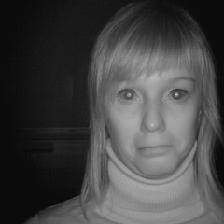sad: (73, 5, 224, 187)
